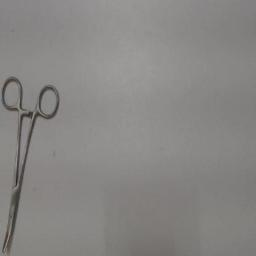Crile Artery Forceps: (1, 72, 63, 254)
